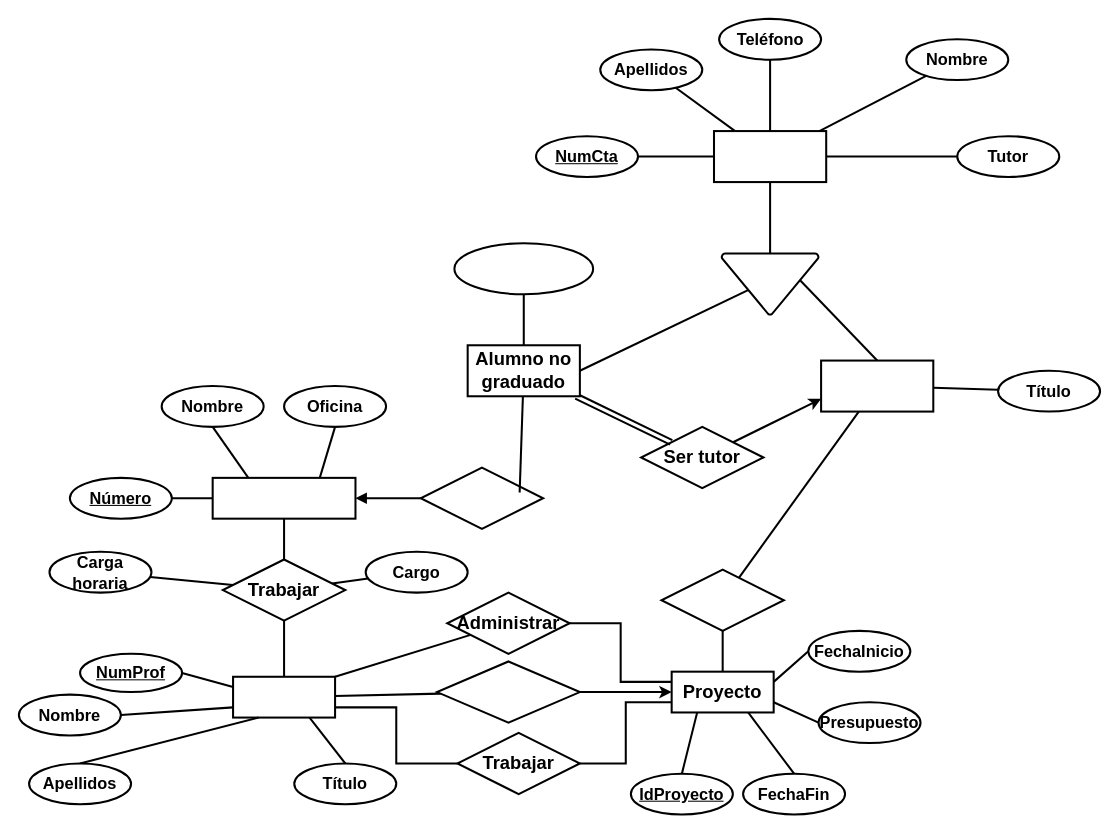
Some shapes in this 1118 by 832 pixel diagram are drawn without their labels. Each missing label, with the centre of its shape:
Alumno: the point at 769,156
Alumno graduado: the point at 877,385
Departamento: the point at 283,497
Estudiar: the point at 481,497
NumExpediente: the point at 523,268
Participar: the point at 722,599
Profesor: the point at 284,696
Supervisar: the point at 508,691
